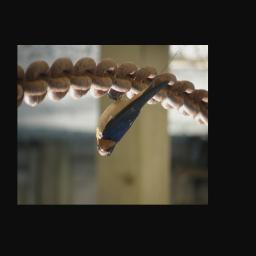Swallow: (95, 49, 181, 157)
